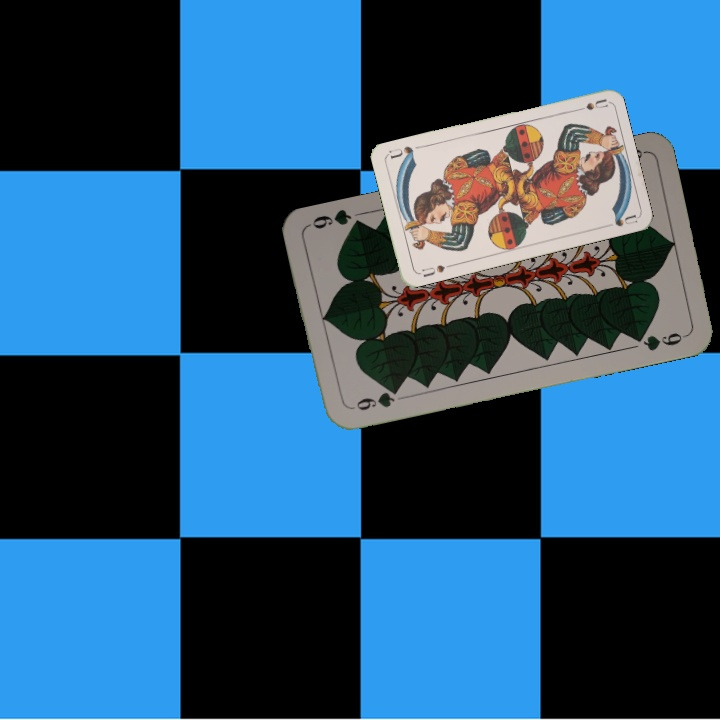G9: (345, 384, 402, 413)
SU: (568, 95, 609, 114), (418, 260, 455, 280)
